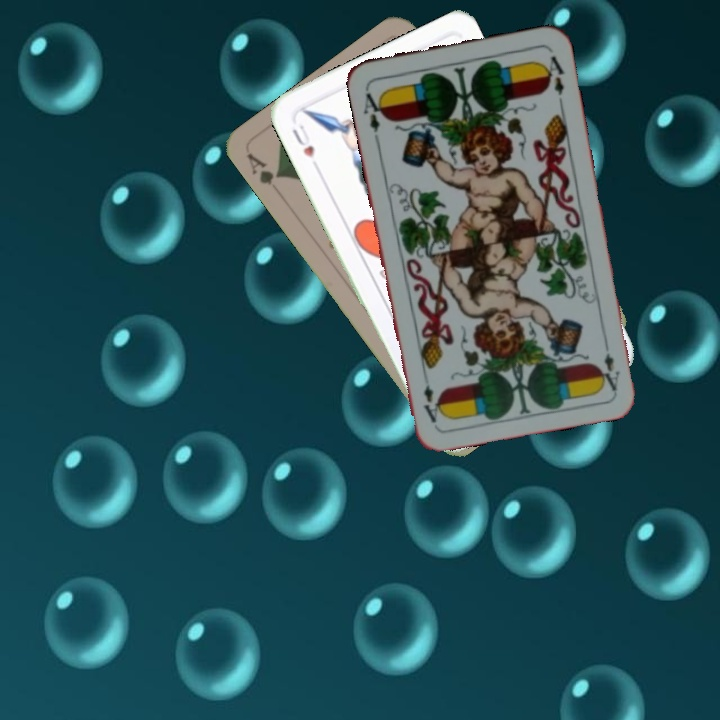EA: (359, 84, 388, 142), (595, 334, 622, 394)
GA: (242, 149, 284, 188)
HU: (288, 120, 317, 161)
